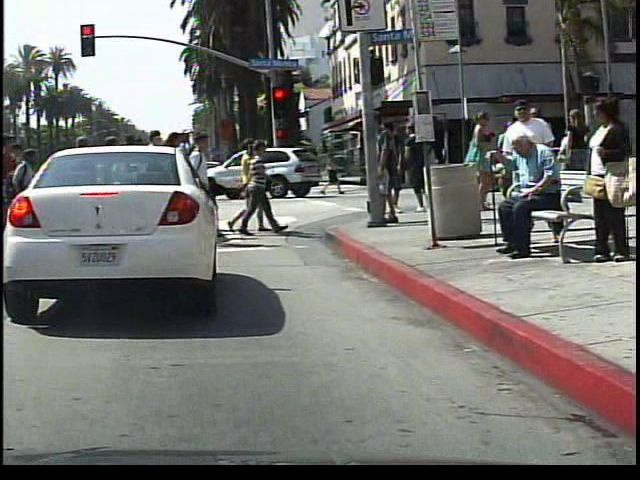person: (481, 125, 575, 256), (573, 88, 633, 270), (451, 107, 497, 214), (320, 145, 341, 198)
